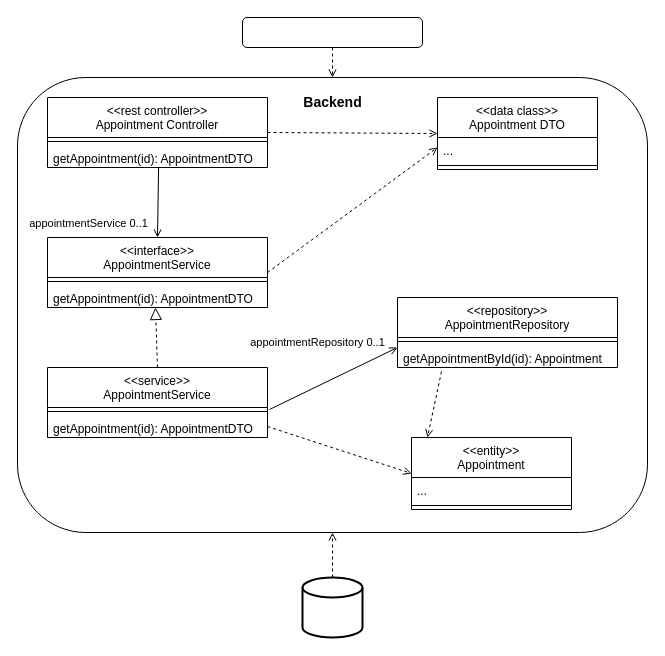
The diagram is 665 pixels wide and 656 high, and some of its shapes have lost their labels. The centre of each missing label's shape, as x and y in pixels:
Frontend: point (332, 32)
SQL: point (332, 607)
